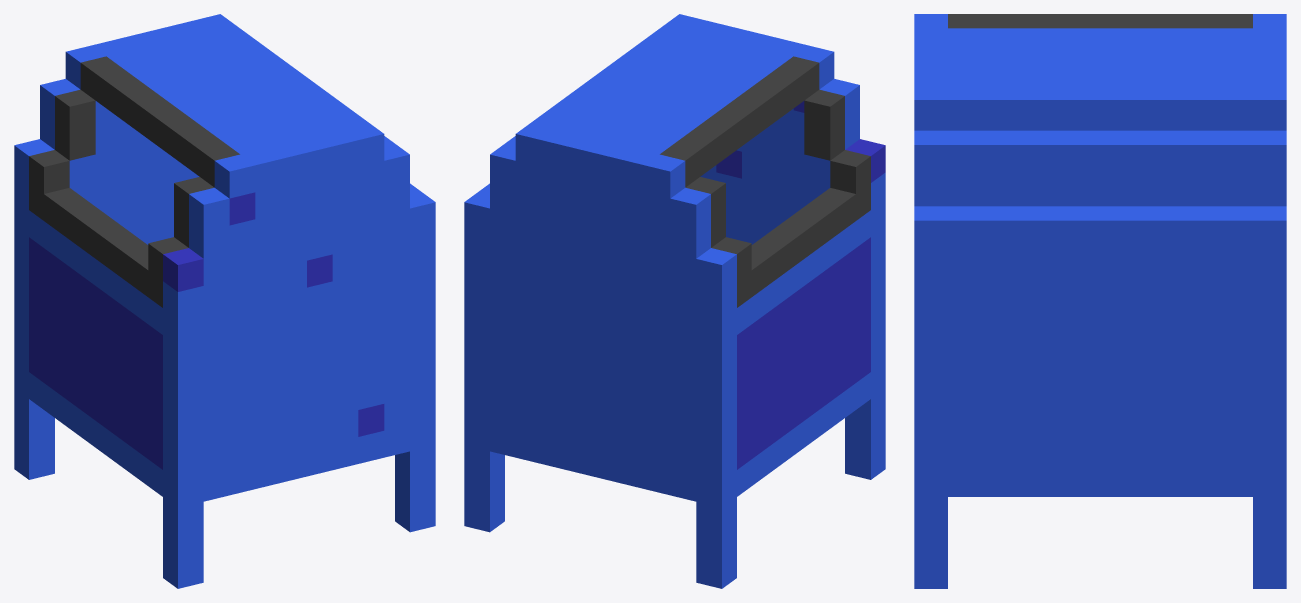
The model's file is blueTrashBin.glb.
3 renders of one model, left to right at view 1: azimuth 30°, elevation 25°; view 2: azimuth 150°, elevation 25°; view 3: azimuth 270°, elevation 25°, orthographic. The views are drawn at different scales.
Visible parts, largest first — view 1: ObjObject; view 2: ObjObject; view 3: ObjObject.
Part boxes in pixels (<box>): ObjObject: <box>14,14,435,588</box>; ObjObject: <box>464,14,885,588</box>; ObjObject: <box>914,14,1286,588</box>.
Bounding box in the file's own units: 1 × 1.5 × 1.1.
Materials: 1 (1 with a texture image).
